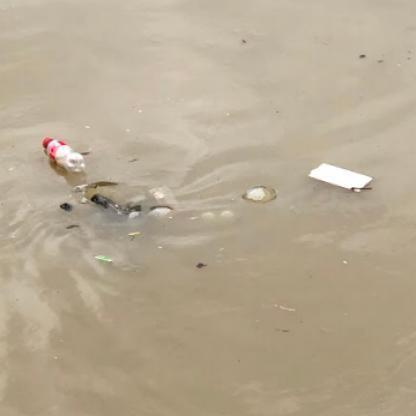foam: (310, 163, 374, 192)
plastic bottle: (43, 137, 85, 172)
